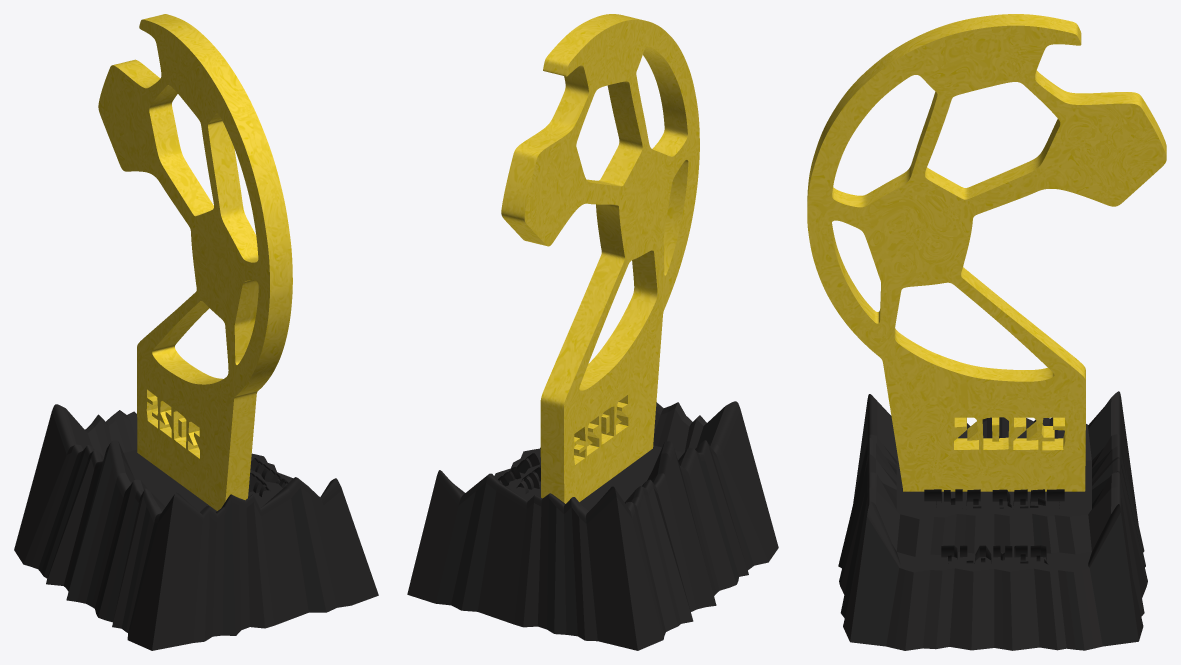
3 views of the same model, side by side, from view 1: azimuth 30°, elevation 25°; view 2: azimuth 150°, elevation 25°; view 3: azimuth 270°, elevation 25° (orthographic). The views are drawn at different scales.
Parts seen in each view (by area): view 1: player.002_0, Cube.073_1; view 2: player.002_0, Cube.073_1; view 3: Cube.073_1, player.002_0.
Part boxes in pixels (box(x1,y1,x2,y2)): player.002_0: box(14, 404, 378, 650); Cube.073_1: box(98, 14, 292, 510); player.002_0: box(407, 401, 778, 650); Cube.073_1: box(501, 14, 699, 503); Cube.073_1: box(807, 14, 1166, 491); player.002_0: box(838, 391, 1147, 650).
Bounding box in the file's own units: 90 × 180 × 104.
Materials: 2 (1 with a texture image).
